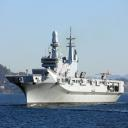Portanaves: (6, 25, 127, 108)
